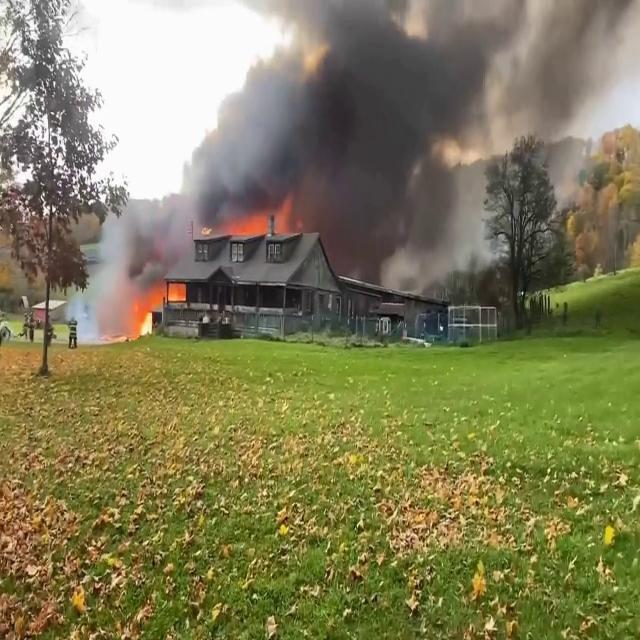Fire: (86, 288, 170, 346)
Smoke: (187, 0, 638, 282), (192, 0, 496, 239), (77, 181, 191, 340)
